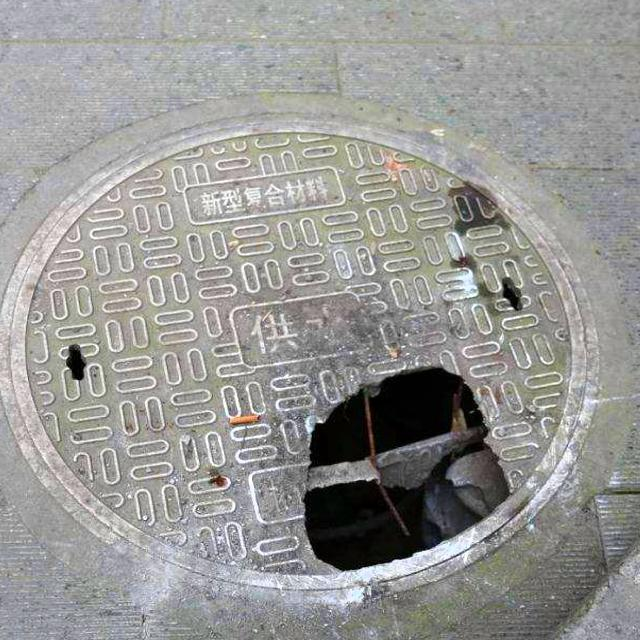broke: (0, 109, 600, 592)
